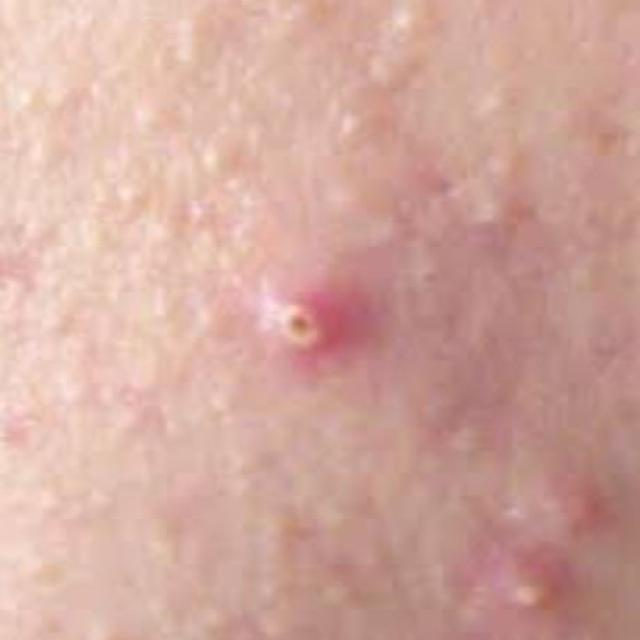pustule: (237, 250, 393, 370)
